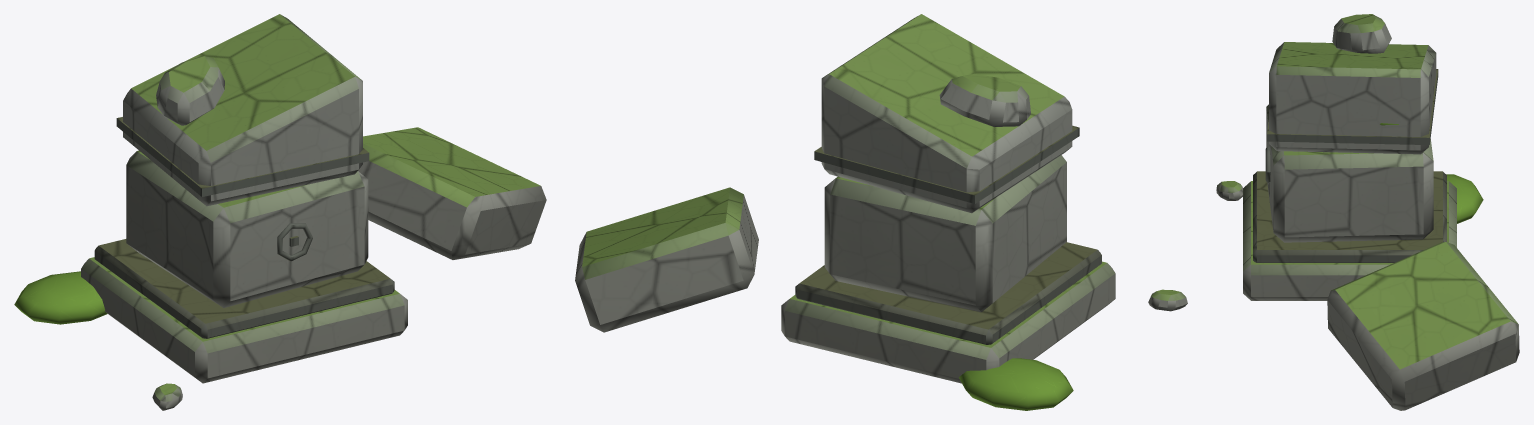
Rendered from stone_pillar_broken_short.glb.
3 views of the same model, side by side, from view 1: azimuth 30°, elevation 25°; view 2: azimuth 150°, elevation 25°; view 3: azimuth 270°, elevation 25° (orthographic). The views are drawn at different scales.
Parts seen in each view (by area): view 1: stone_pillar_broken_short; view 2: stone_pillar_broken_short; view 3: stone_pillar_broken_short.
Boxes of the visible parts, x1,y1,x2,y2 form: stone_pillar_broken_short: (14,14,546,410); stone_pillar_broken_short: (575,14,1187,410); stone_pillar_broken_short: (1216,14,1519,410).
Bounding box in the file's own units: 3.74 × 2.05 × 2.27.
Materials: 3 (3 with a texture image).
